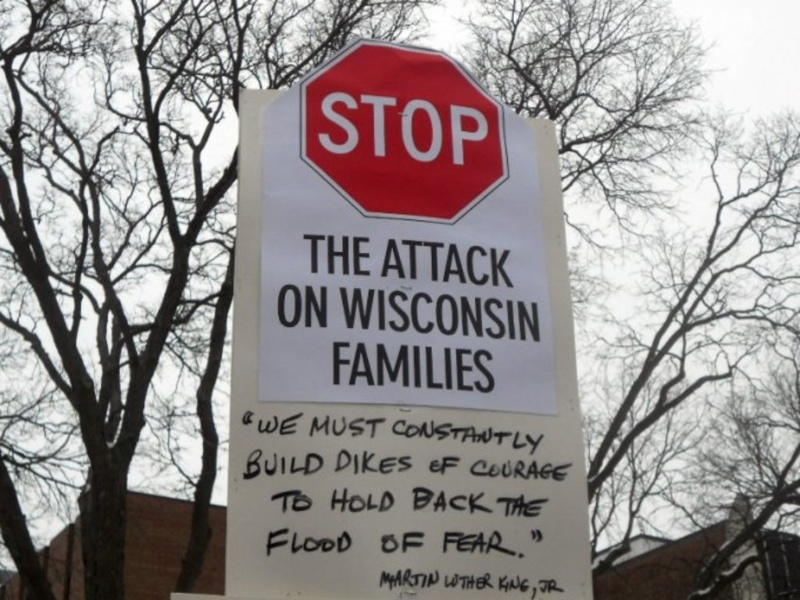stop: (292, 32, 514, 229)
